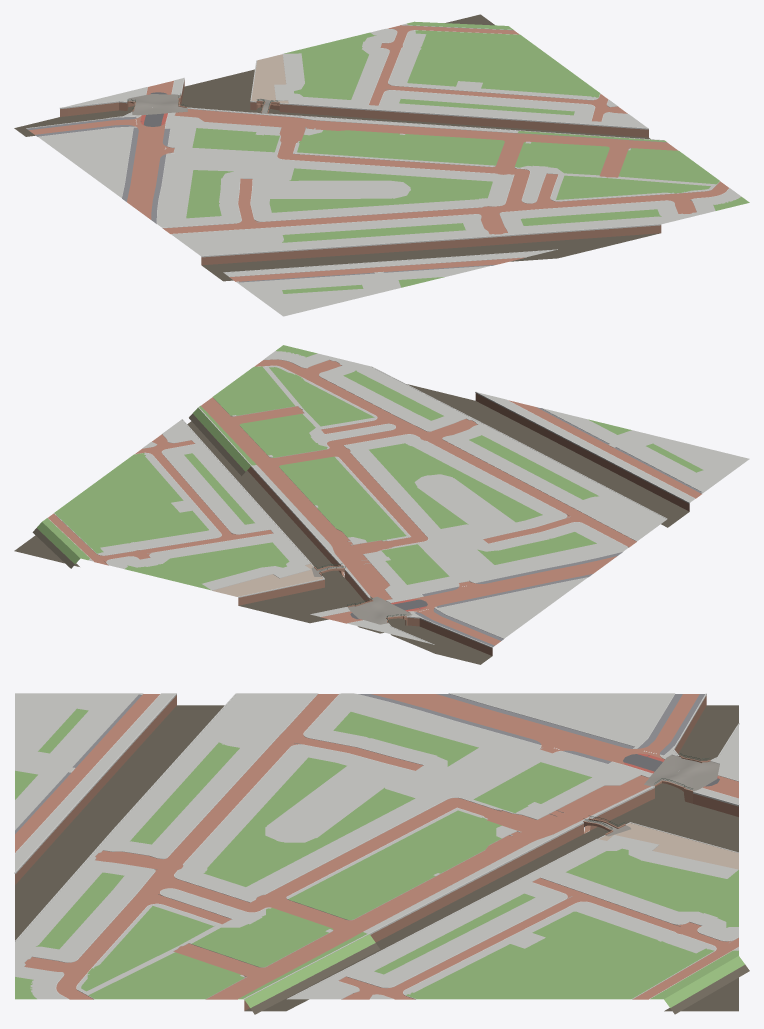
File: ground_11_12.glb
The picture shows the model from 3 angles, top to bottom: view 1: azimuth 30°, elevation 25°; view 2: azimuth 150°, elevation 25°; view 3: azimuth 270°, elevation 25°; orthographic projection. The views are drawn at different scales.
Visible parts, largest first — view 1: ground_11_12; view 2: ground_11_12; view 3: ground_11_12.
Part boxes in pixels (x1,y1,x2,y2): ground_11_12: (14, 14, 749, 316); ground_11_12: (14, 345, 749, 664); ground_11_12: (14, 693, 749, 1014).
Size of the model in its own units: 203 by 5.2 by 203.
